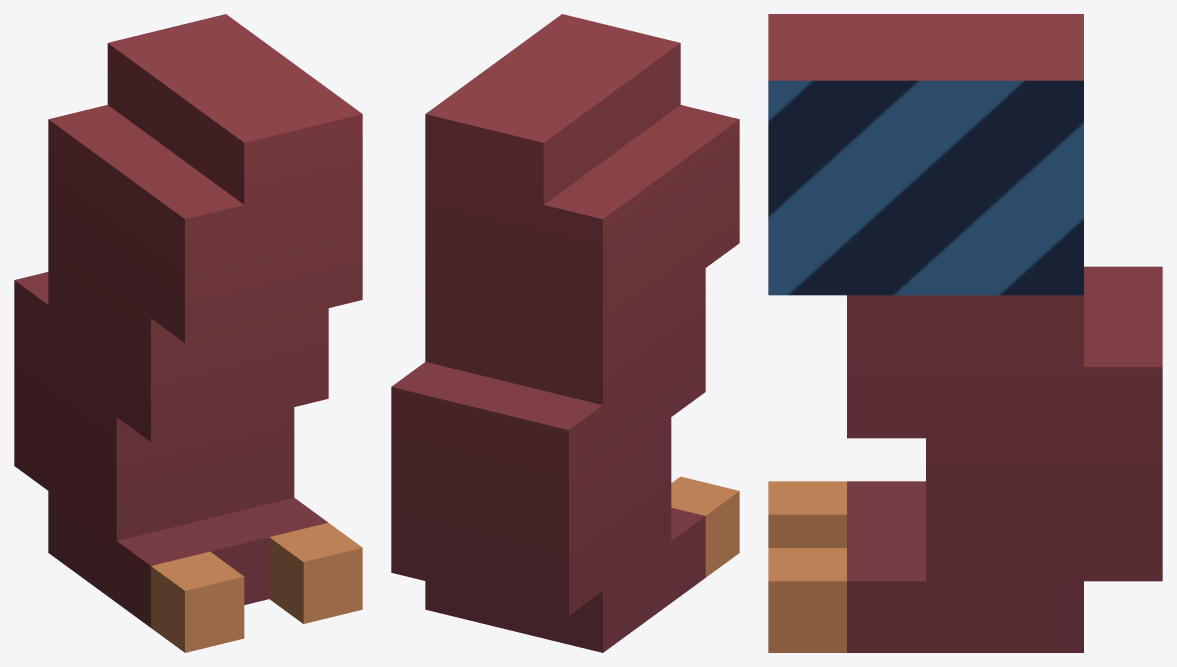
The model's file is PartH.fbx.
3 views of the same model, side by side, from view 1: azimuth 30°, elevation 25°; view 2: azimuth 150°, elevation 25°; view 3: azimuth 270°, elevation 25° (orthographic). The views are drawn at different scales.
Visible parts, largest first — view 1: PartH; view 2: PartH; view 3: PartH.
Part boxes in pixels (x1,y1,x2,y2): PartH: (14, 14, 362, 652); PartH: (391, 14, 739, 652); PartH: (768, 14, 1162, 652).
Size of the model in its own units: 30 by 80 by 50.
